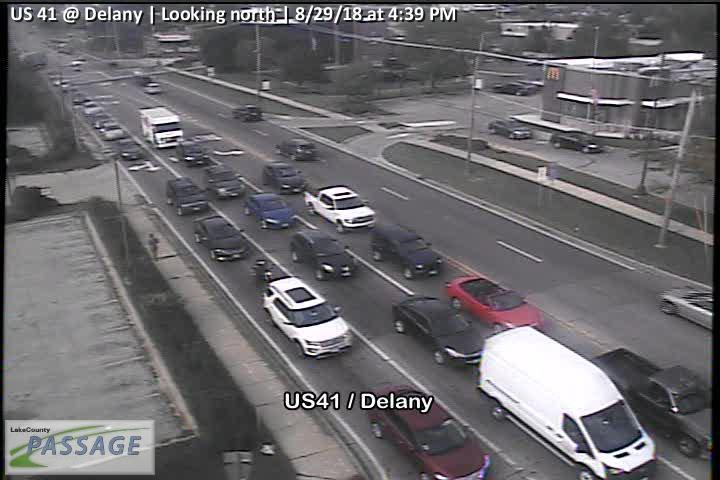Motorbike: (249, 257, 276, 286)
SUV: (261, 276, 355, 359), (370, 224, 445, 279), (289, 229, 362, 279), (165, 176, 211, 217), (261, 162, 306, 196), (204, 167, 246, 200), (176, 138, 212, 167), (275, 138, 320, 161), (233, 104, 264, 123), (144, 82, 162, 94)
Sedan: (360, 382, 494, 480), (389, 295, 486, 366), (443, 272, 547, 333), (191, 214, 255, 265), (657, 283, 712, 328), (243, 191, 297, 230), (548, 129, 604, 154), (488, 115, 534, 141), (490, 80, 536, 96), (117, 137, 142, 160), (99, 121, 123, 141), (83, 101, 102, 115), (93, 113, 108, 129)
Truck: (475, 324, 661, 480), (591, 347, 711, 463), (302, 185, 379, 231), (138, 105, 184, 151)
